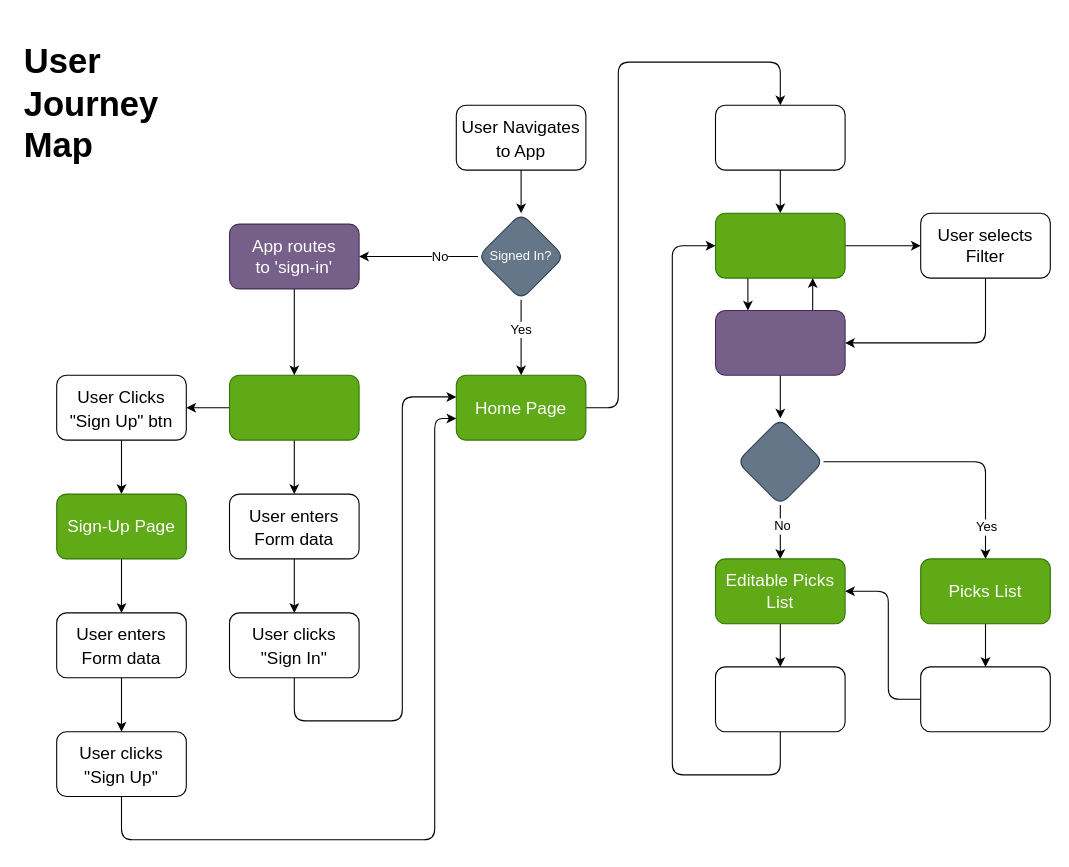
Image size: 1069x867. Some labels were removed from this diagram. The shapes that lost their labels are listed below. From the top down, each one's box as (x1, y1, x2, y2) in pixels, then its label:
(714, 104, 845, 170): User Clicks "Picks" btn
(714, 212, 845, 278): Picks Page
(714, 309, 845, 375): Query Picks Collection
(228, 374, 359, 440): Sign-In Page
(736, 417, 824, 505): All Picks Submitted?
(714, 666, 845, 732): User Clicks "Pick" btn
(920, 666, 1050, 732): User Clicks "Edit" btn
